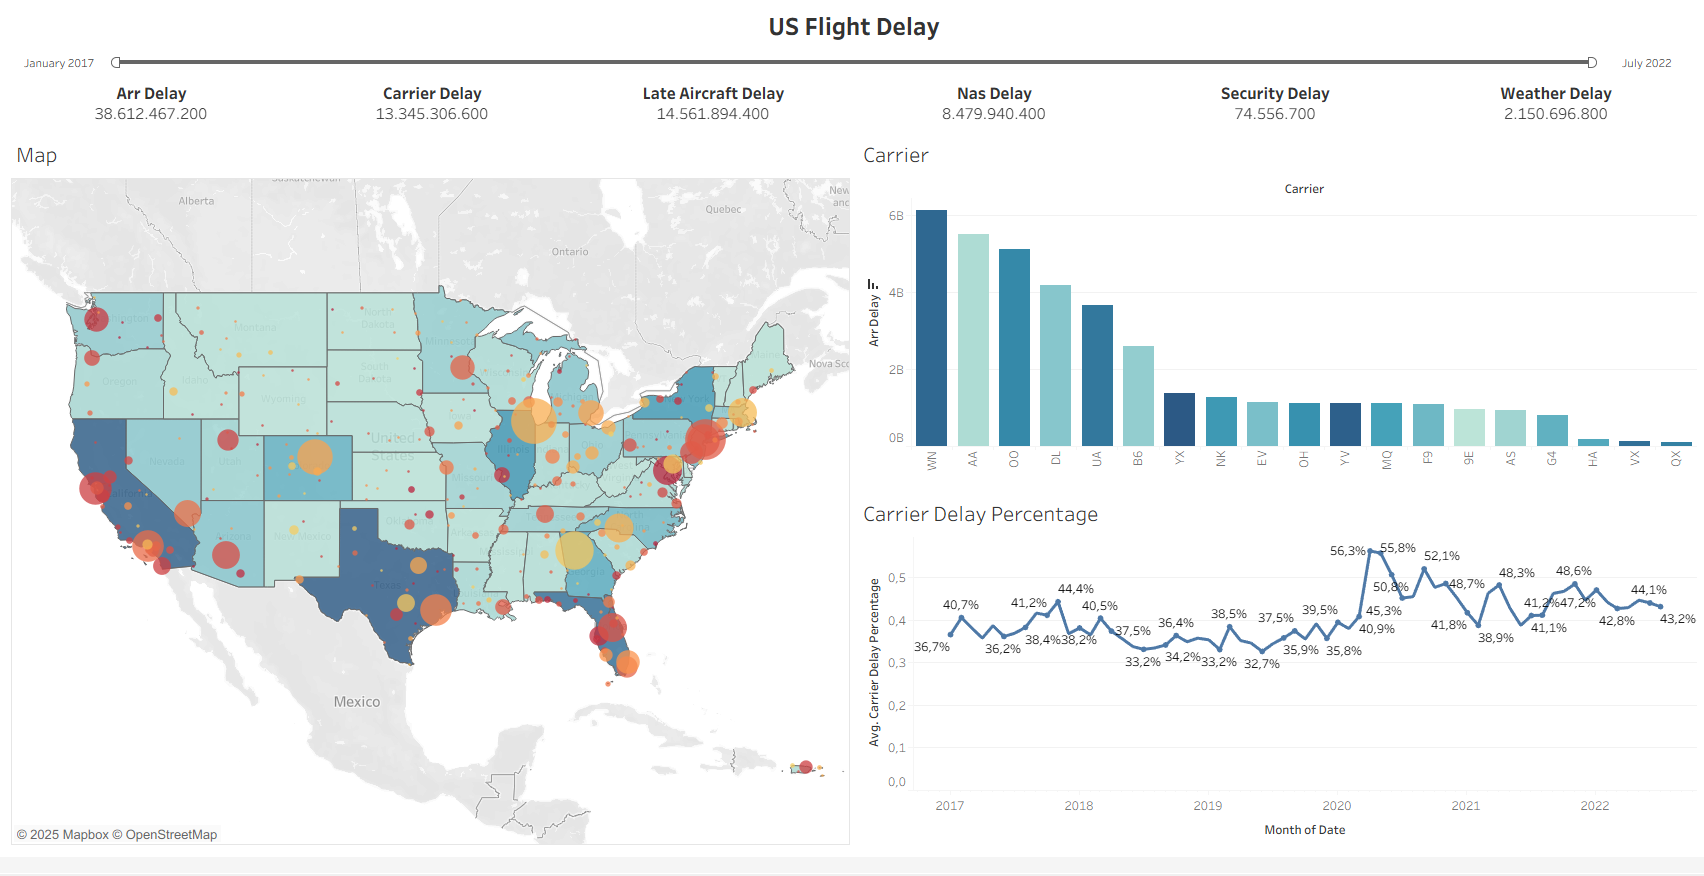

This screenshot's page, from the dashboard's own definition file:
{"tool":"tableau","page":{"name":"US Flight Delay","canvas":[1000,1000],"units":"permille","ordinal":0},"visuals":[{"type":"title","box":[4.7,9.3,990.6,47.7]},{"type":"filter","title":"Carrier Delay Percentage","param":"[federated.0723lds10vj9711h4nlfk0m2od23].[tmn:date:qk]","box":[4.7,57,990.6,38.7]},{"type":"worksheet","title":"Total Delay","mark":"Automatic","box":[4.7,95.7,990.6,59.7]},{"type":"worksheet","title":"Map","mark":"Automatic","box":[4.7,155.4,495.3,835.3]},{"type":"worksheet","title":"Carrier","mark":"Automatic","rows":["arr_delay"],"cols":["carrier"],"box":[500,155.4,495.3,417.7]},{"type":"worksheet","title":"Carrier Delay Percentage","mark":"Automatic","rows":["Calculation_1919216134197248"],"cols":["date"],"box":[500,573.1,495.3,417.6]}]}

Visuals, with their boxes on the dashboard's canvas, which has no fixed pixel size, in thousandths of its width and height (x1, y1, x2, y2). These are canvas units, not pixel positions in the 1704x876 screenshot, which may show the page scaled, cropped or inside an application window:
title: 5 9 995 57
"Carrier Delay Percentage" filter: 5 57 995 96
"Total Delay" worksheet: 5 96 995 155
"Map" worksheet: 5 155 500 991
"Carrier" worksheet: 500 155 995 573
"Carrier Delay Percentage" worksheet: 500 573 995 991
